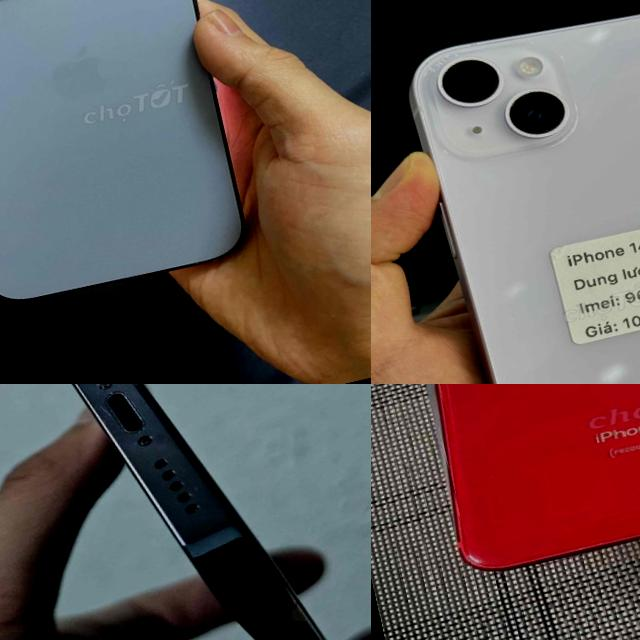scratch: (80, 384, 133, 440), (469, 458, 513, 497)
